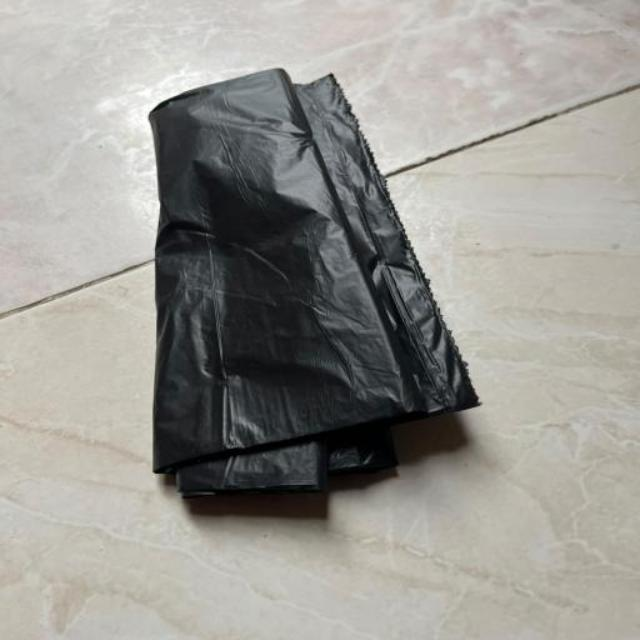LDPE: (92, 44, 510, 549)
